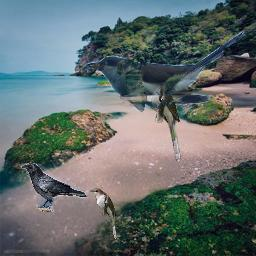Crow: (21, 163, 87, 212)
Cuckoo: (83, 30, 250, 113), (133, 74, 181, 162), (89, 188, 117, 239)
